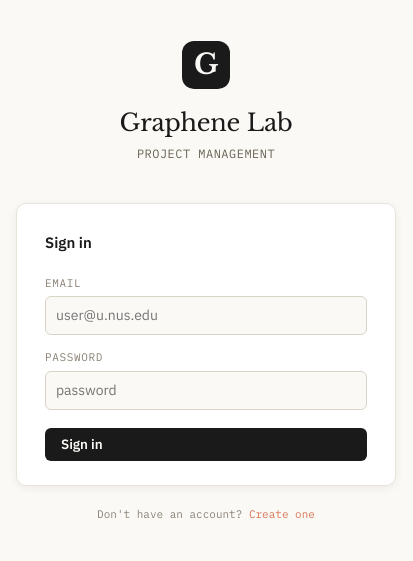
Test case: LoginPage — approval gate messages › shows invalid credentials message for 401
Step 1. Type "bad@email.com" into the field with placeholder "user@u.nus.edu" → (206, 316), box x1=45 y1=296 x2=367 y2=335
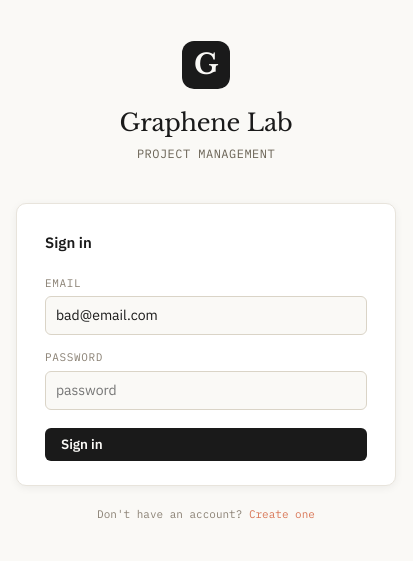
Step 2. Type "wrongpass" into the password field with placeholder "Password" → (206, 390), box x1=45 y1=371 x2=367 y2=410
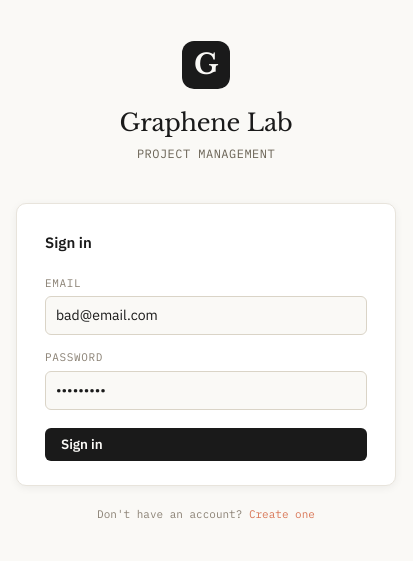
Step 3. Click the button "Sign in" → (82, 444), box x1=45 y1=428 x2=367 y2=461
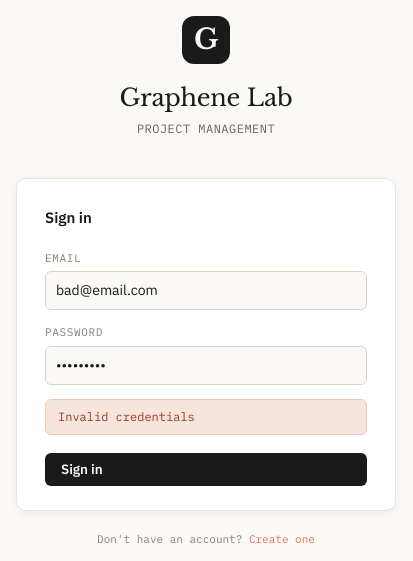
Result: the text "Invalid credentials" is shown at x1=45 y1=399 x2=367 y2=435
